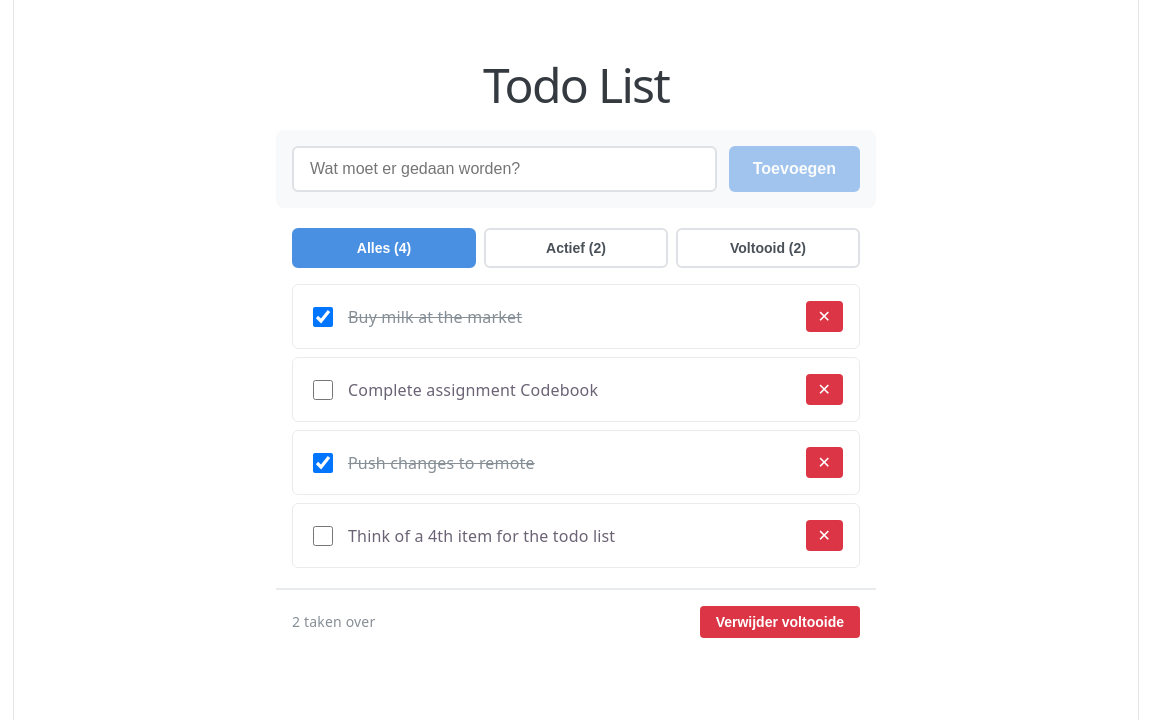
TodoList › should show completed todo items when filter is set to completed
The width and height of the screenshot is (1152, 720).
Click the button "Voltooid (2)" at point(768, 248), box x1=676 y1=228 x2=860 y2=268
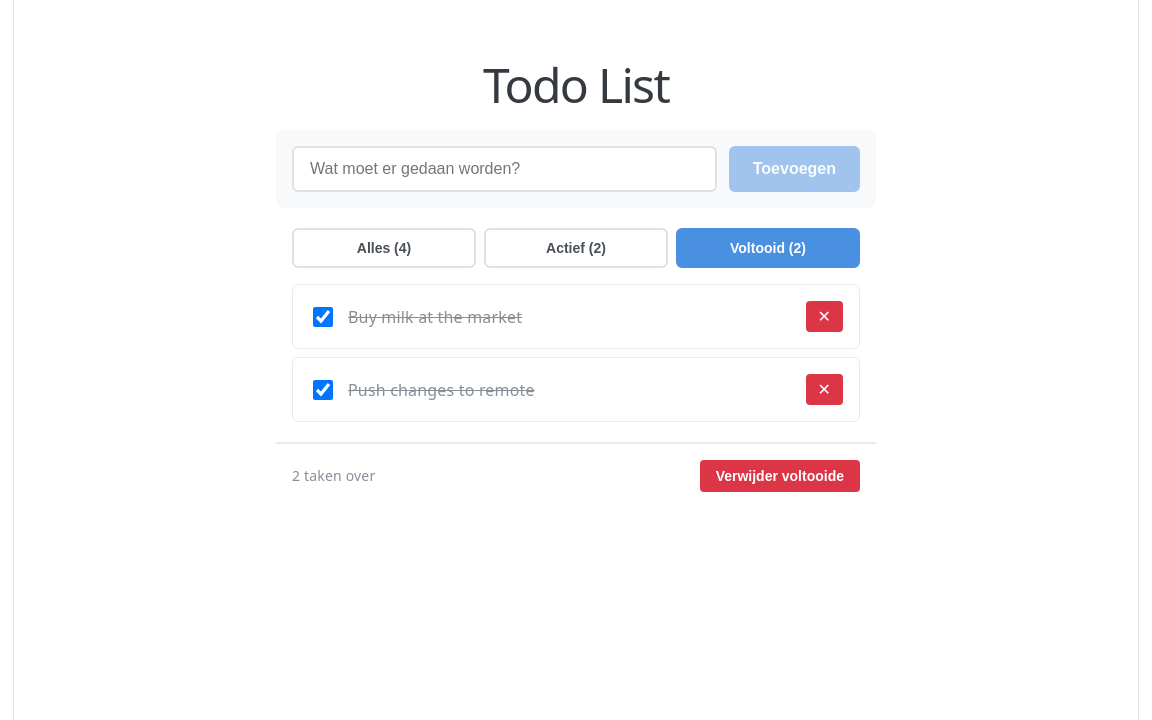
Expected: the number of "TodoItem" components is 2, x1=292 y1=284 x2=860 y2=349; x1=292 y1=357 x2=860 y2=422
